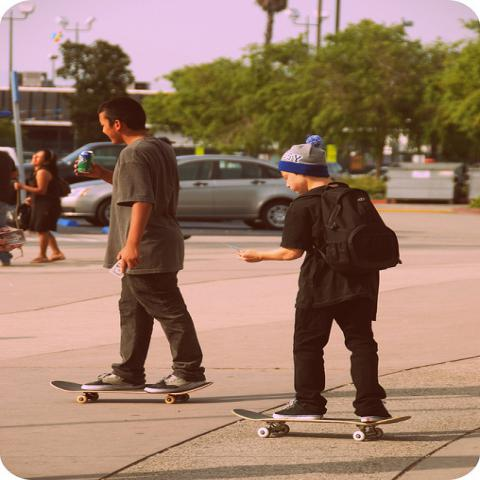car: (65, 159, 299, 231), (57, 142, 128, 184), (24, 152, 34, 164)
